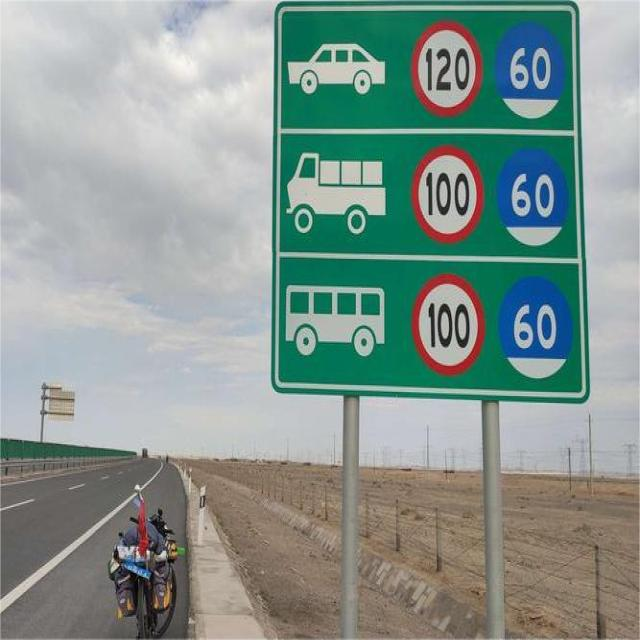speed limit 100: (411, 277, 485, 375), (412, 146, 484, 242)
speed limit 120: (409, 20, 481, 115)
speed limit 60: (500, 276, 574, 381), (497, 147, 568, 247), (496, 24, 567, 121)
